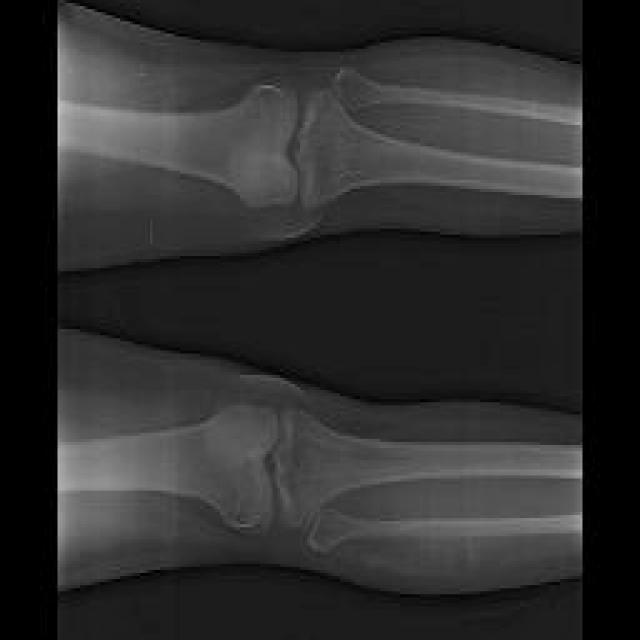normal: (270, 412, 581, 527), (299, 93, 583, 203), (57, 85, 296, 204), (58, 407, 279, 530), (332, 64, 580, 128), (309, 507, 582, 554)
